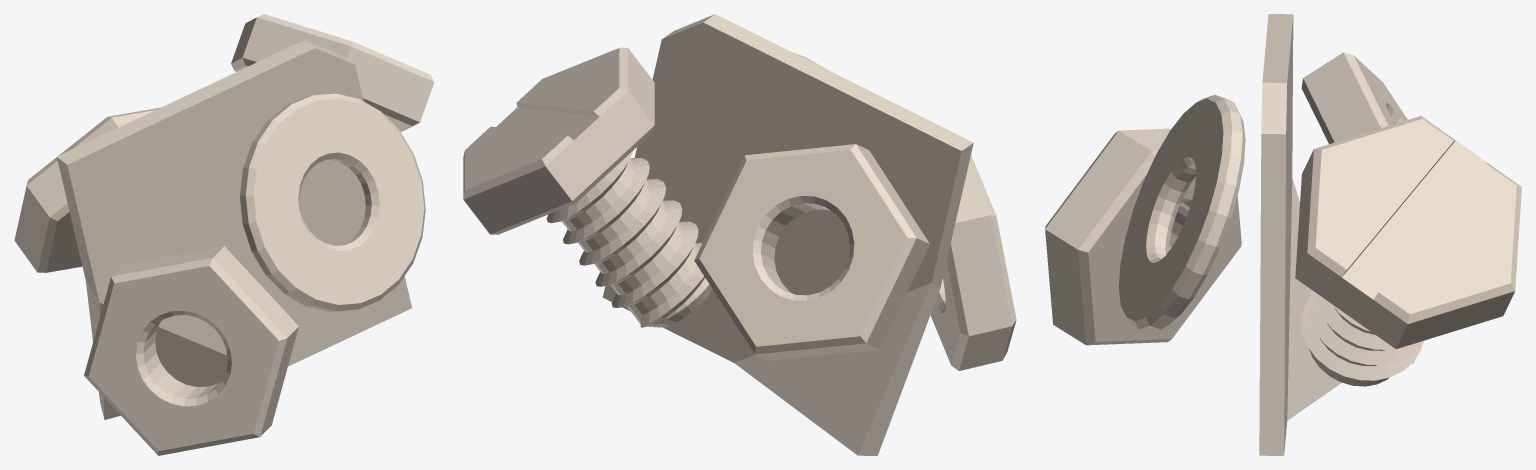
Rendered from Pisces_Scrap_Pickup (2).fbx.
3 views of the same model, side by side, from view 1: azimuth 30°, elevation 25°; view 2: azimuth 150°, elevation 25°; view 3: azimuth 270°, elevation 25° (orthographic). The views are drawn at different scales.
Visible parts, largest first — view 1: Scrap; view 2: Scrap; view 3: Scrap.
Part boxes in pixels (x1,y1,x2,y2): Scrap: (14, 14, 434, 455); Scrap: (463, 14, 1016, 455); Scrap: (1045, 14, 1521, 455).
Size of the model in its own units: 450 by 352 by 384.
